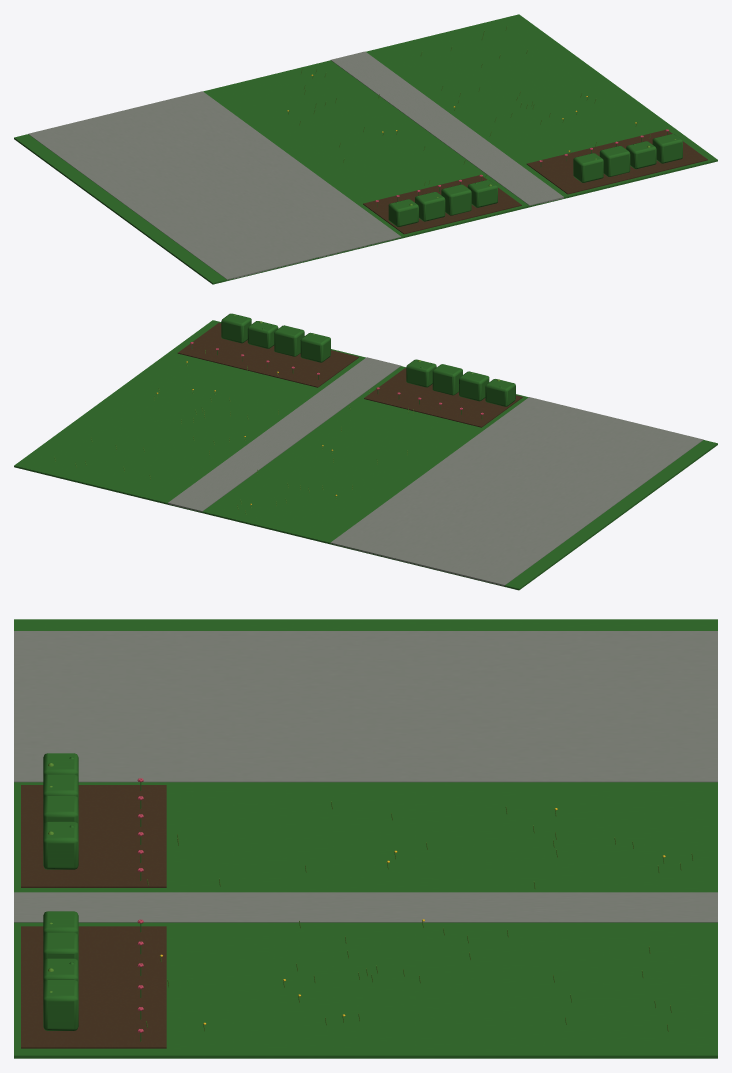
File: GloriaYard_Stage1.gltf
3 renders of one model, top to bottom at view 1: azimuth 30°, elevation 25°; view 2: azimuth 150°, elevation 25°; view 3: azimuth 270°, elevation 25°, orthographic. The views are drawn at different scales.
Parts seen in each view (by area): view 1: GloriaYard_Stage1__Body, GloriaYard_Stage1__Lawn; view 2: GloriaYard_Stage1__Body, GloriaYard_Stage1__Lawn; view 3: GloriaYard_Stage1__Body, GloriaYard_Stage1__Lawn.
Part boxes in pixels (x1,y1,x2,y2): GloriaYard_Stage1__Body: [28, 26, 707, 280]; GloriaYard_Stage1__Lawn: [14, 14, 717, 284]; GloriaYard_Stage1__Body: [54, 313, 703, 586]; GloriaYard_Stage1__Lawn: [14, 320, 717, 590]; GloriaYard_Stage1__Body: [14, 631, 717, 1048]; GloriaYard_Stage1__Lawn: [14, 619, 717, 1058].
Size of the model in its own units: 12.32 by 0.532 by 8.4.
1 material, 1 textured.
